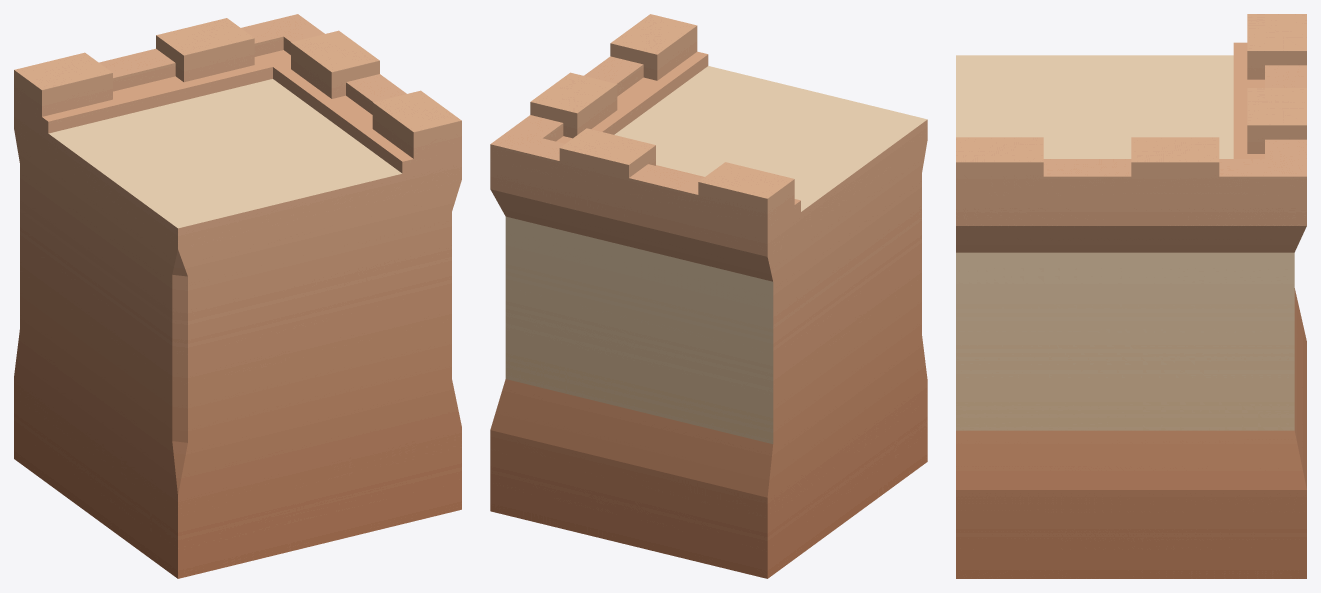
The model's file is wall-corner-half.glb.
The picture shows the model from 3 angles, left to right: view 1: azimuth 30°, elevation 25°; view 2: azimuth 150°, elevation 25°; view 3: azimuth 270°, elevation 25°; orthographic projection. The views are drawn at different scales.
Visible parts, largest first — view 1: wall-corner-half; view 2: wall-corner-half; view 3: wall-corner-half.
Part boxes in pixels (x1,y1,x2,y2): wall-corner-half: (14, 14, 461, 578); wall-corner-half: (490, 14, 927, 578); wall-corner-half: (956, 14, 1306, 578).
Bounding box in the file's own units: 1 × 1.31 × 1.
1 material, 1 textured.
